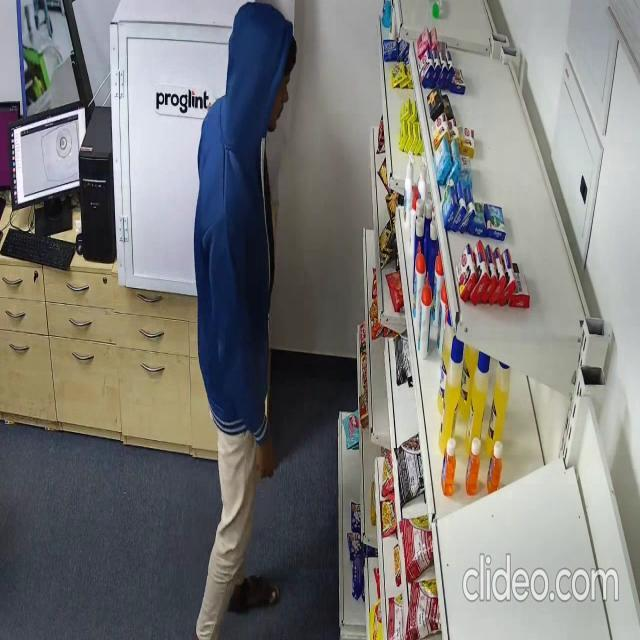normal: (194, 3, 297, 640)
